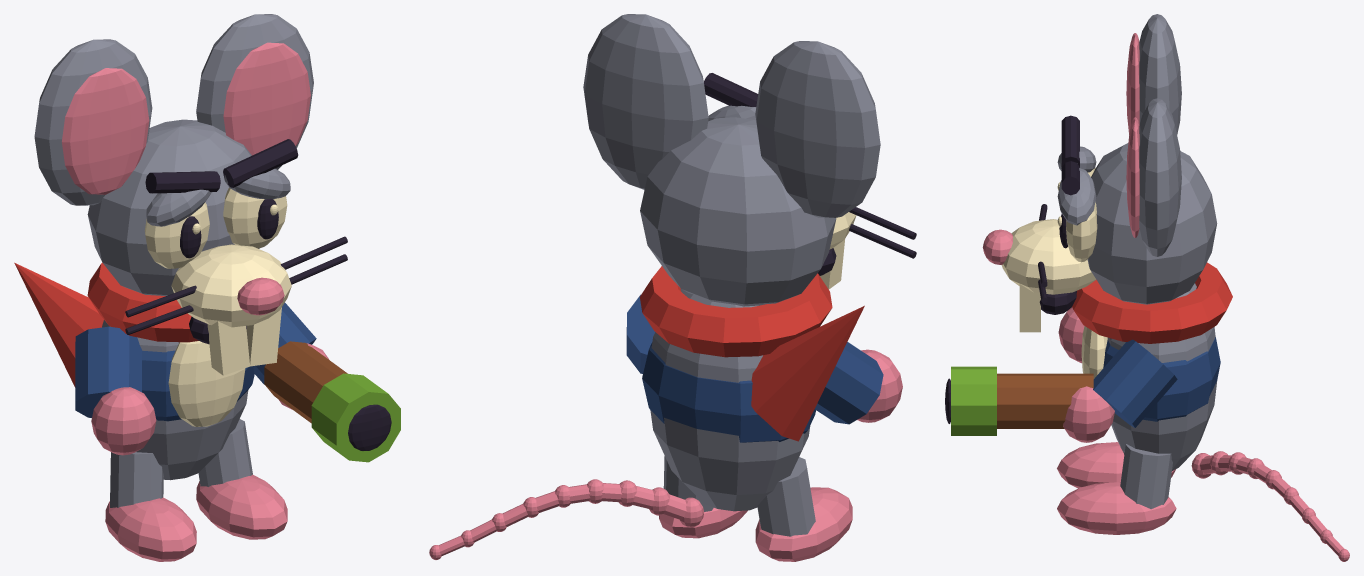
Rendered from rat.glb.
3 renders of one model, left to right at view 1: azimuth 30°, elevation 25°; view 2: azimuth 150°, elevation 25°; view 3: azimuth 270°, elevation 25°, orthographic. The views are drawn at different scales.
Parts seen in each view (by area): view 1: Rat head, Pink ear center, Pink ear center.001, Satellite ear, Rat muzzle, Satellite ear.001, Sleeve, Shirt front, Green barrel, Lean body, Pink foot, Pink foot.001 (+23 smaller); view 2: Rat head, Satellite ear, Satellite ear.001, Lean body, Red scarf, Scarf flying end, Blue waistcoat, Pink foot, Sleeve, Leg, Pink hand, Pink foot.001 (+3 smaller); view 3: Rat head, Red scarf, Satellite ear.001, Lean body, Seed blaster, Rat muzzle, Sleeve.001, Pink foot.001, Satellite ear, Blue waistcoat, Green barrel, Leg.001 (+13 smaller).
Part boxes in pixels (bbox=[...]): Rat head: bbox=[87, 119, 259, 295]; Pink ear center: bbox=[62, 68, 149, 194]; Pink ear center.001: bbox=[223, 42, 310, 155]; Satellite ear: bbox=[34, 39, 152, 205]; Rat muzzle: bbox=[171, 244, 291, 327]; Satellite ear.001: bbox=[196, 14, 313, 169]; Sleeve: bbox=[75, 326, 141, 417]; Shirt front: bbox=[168, 341, 245, 426]; Green barrel: bbox=[311, 373, 400, 462]; Lean body: bbox=[102, 320, 248, 480]; Pink foot: bbox=[105, 497, 196, 561]; Pink foot.001: bbox=[196, 474, 287, 539]; Rat head: bbox=[640, 117, 836, 306]; Satellite ear: bbox=[755, 41, 880, 217]; Satellite ear.001: bbox=[583, 14, 708, 189]; Lean body: bbox=[650, 289, 810, 511]; Red scarf: bbox=[640, 266, 832, 357]; Scarf flying end: bbox=[751, 305, 864, 441]; Blue waistcoat: bbox=[642, 342, 815, 442]; Pink foot: bbox=[755, 487, 852, 561]; Sleeve: bbox=[815, 342, 883, 424]; Leg: bbox=[757, 457, 815, 536]; Pink hand: bbox=[857, 349, 902, 422]; Pink foot.001: bbox=[659, 508, 747, 538]; Rat head: bbox=[1087, 143, 1217, 304]; Red scarf: bbox=[1072, 262, 1232, 343]; Satellite ear.001: bbox=[1139, 98, 1181, 256]; Lean body: bbox=[1107, 283, 1216, 470]; Seed blaster: bbox=[997, 373, 1093, 428]; Rat muzzle: bbox=[1001, 219, 1095, 294]; Sleeve.001: bbox=[1093, 339, 1177, 427]; Pink foot.001: bbox=[1057, 482, 1176, 534]; Satellite ear: bbox=[1139, 14, 1181, 134]; Blue waistcoat: bbox=[1103, 337, 1220, 421]; Green barrel: bbox=[951, 366, 996, 435]; Leg.001: bbox=[1120, 444, 1172, 509].
Size of the model in its own units: 1.92 by 2.86 by 2.3.
